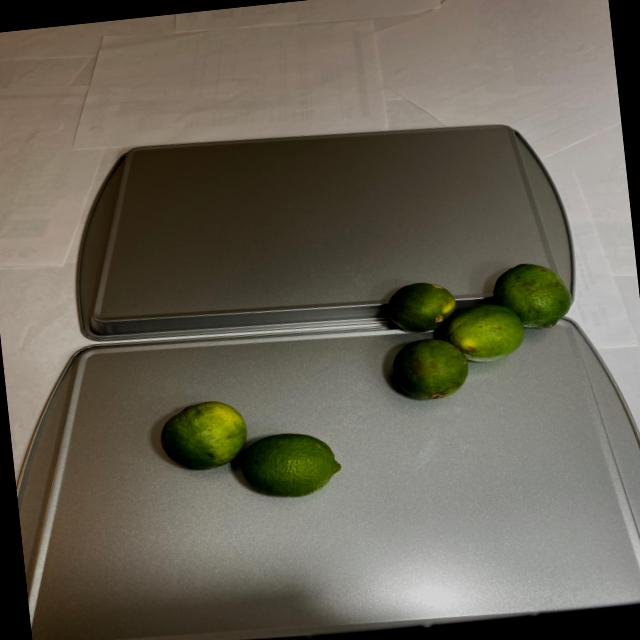lemon: (378, 254, 585, 405), (150, 385, 352, 521)
